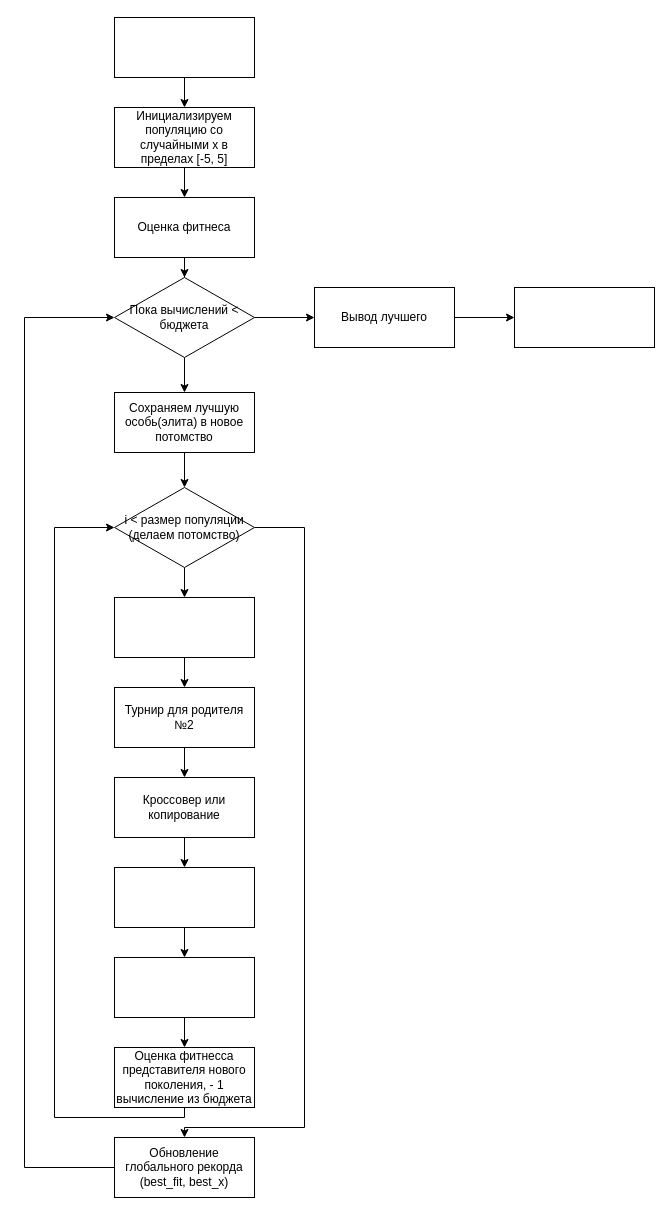
This 672x1215 diagram has some shape labels left out. Here are the shapes that lost their labels. From the top down, the centre of each, then its label:
At (x=184, y=47): "Начало".
At (x=584, y=317): "Конец".
At (x=184, y=627): "Турнир для родителя №1".
At (x=184, y=897): "Мутация".
At (x=184, y=987): "Возвращаем коэффициенты в [-5, 5] отскакиванием от границы".
